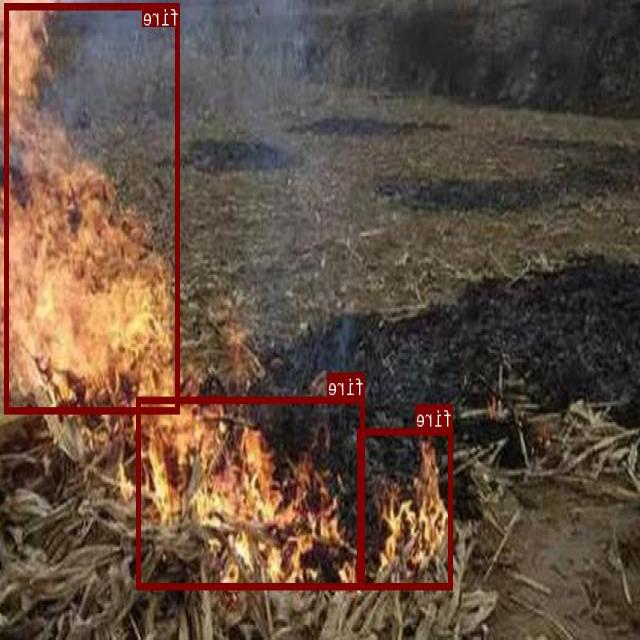fire: (6, 3, 180, 413), (138, 396, 365, 588), (359, 427, 453, 588)
